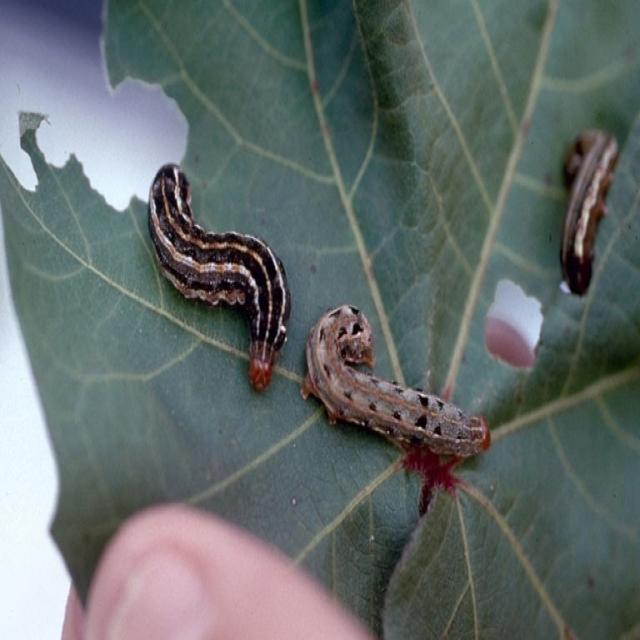armyworm: (147, 160, 291, 392), (300, 302, 491, 460), (558, 125, 618, 295)
